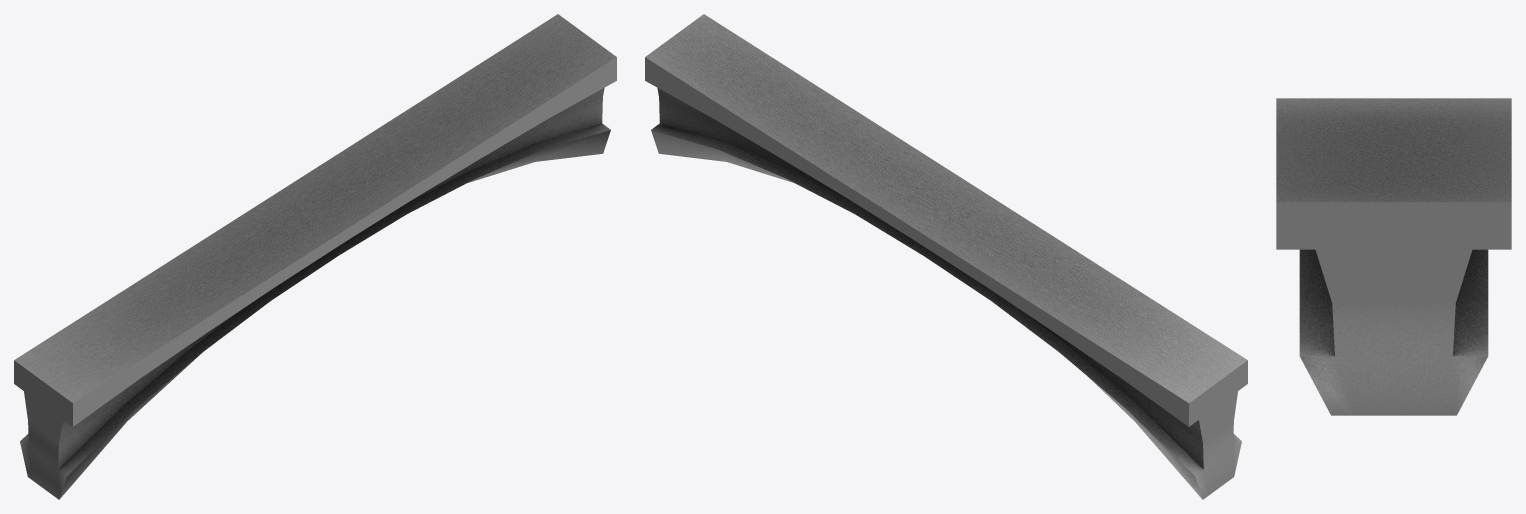
Rendered from cat_flying-buttress1.obj.
3 renders of one model, left to right at view 1: azimuth 30°, elevation 25°; view 2: azimuth 150°, elevation 25°; view 3: azimuth 270°, elevation 25°, orthographic. The views are drawn at different scales.
Visible parts, largest first — view 1: flying_buttress1; view 2: flying_buttress1; view 3: flying_buttress1.
Boxes of the visible parts, <box> form: flying_buttress1: <box>14,14,616,499</box>; flying_buttress1: <box>645,14,1247,499</box>; flying_buttress1: <box>1276,98,1511,415</box>.
Size of the model in its own units: 16 by 9 by 3.
1 material, 1 textured.
